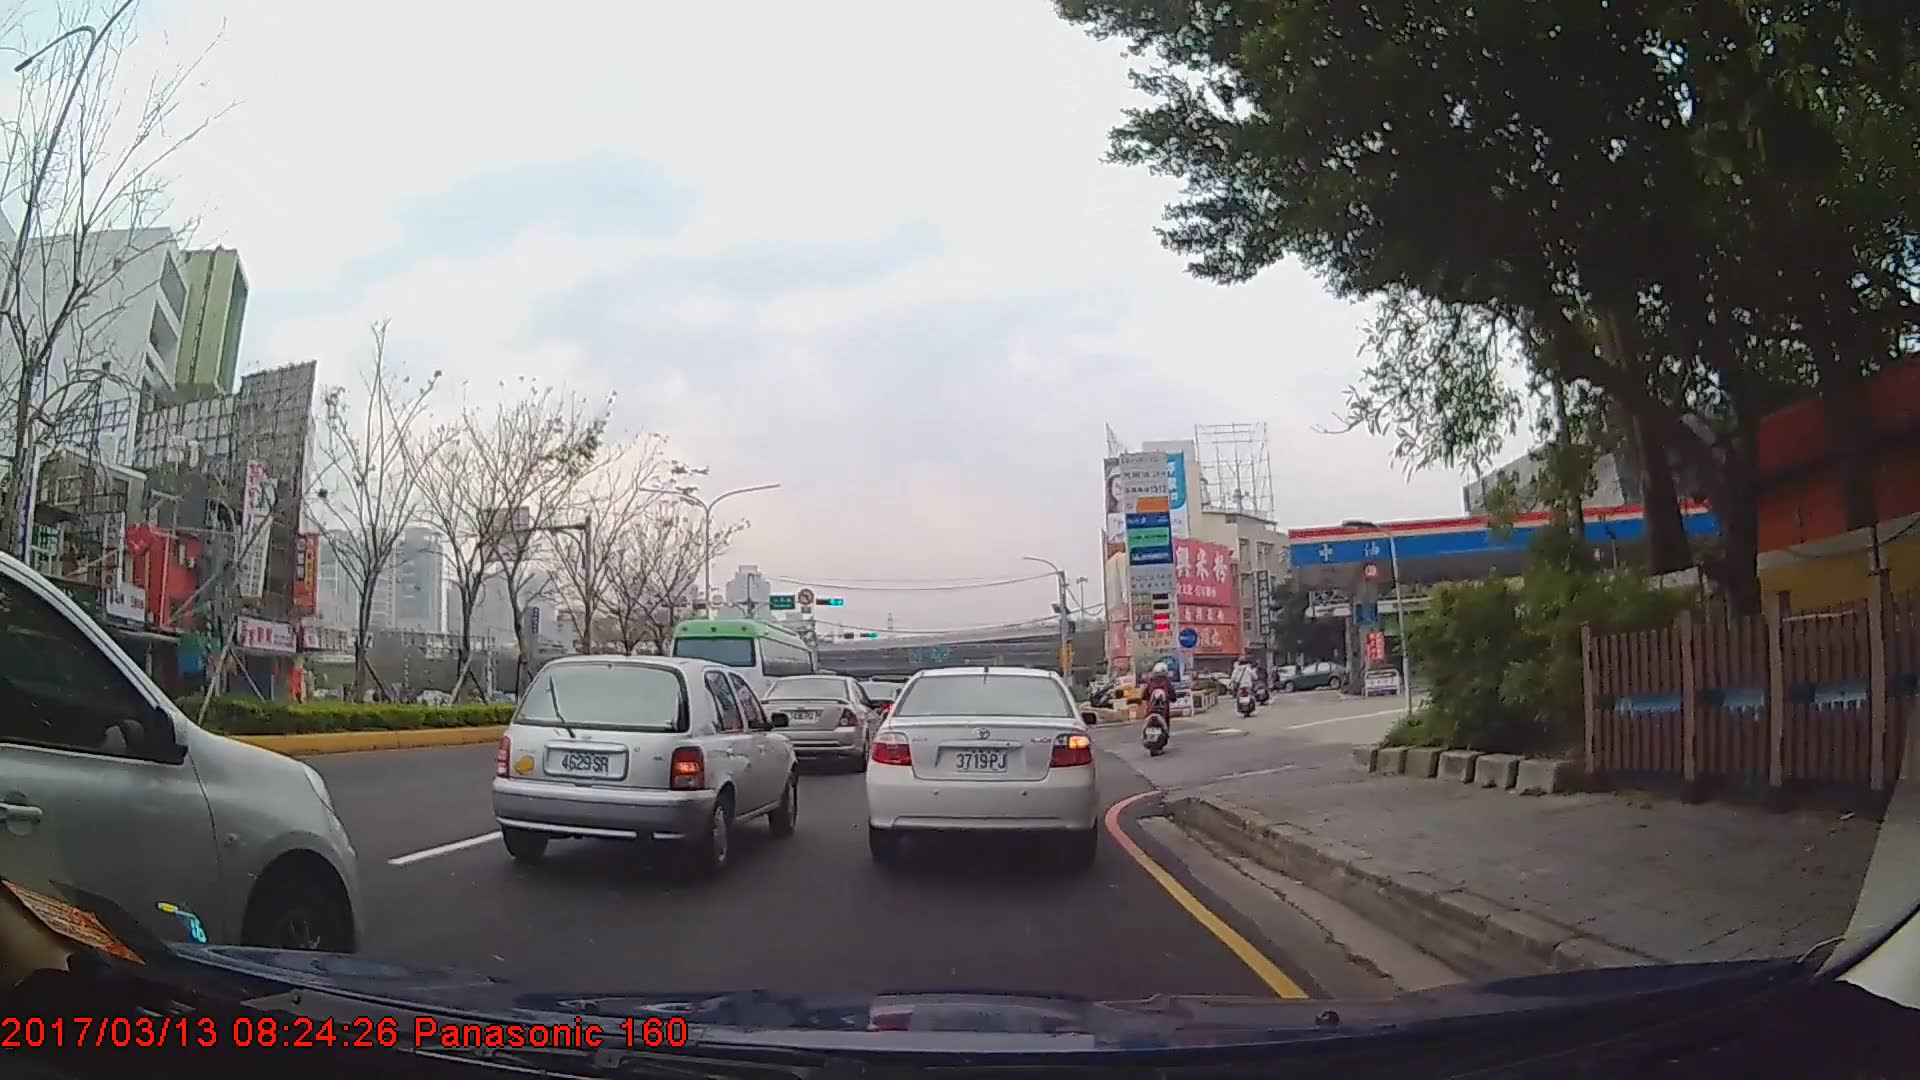rider: (1144, 664, 1178, 757), (1231, 656, 1260, 719)
vehicle: (0, 550, 363, 991), (493, 655, 801, 877), (863, 662, 1098, 866), (663, 617, 814, 739), (752, 673, 880, 768), (1281, 661, 1351, 691)
